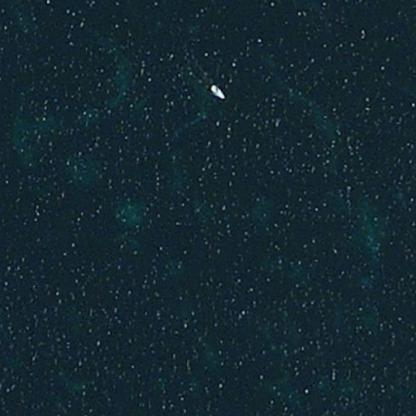ship: (206, 80, 228, 101)
